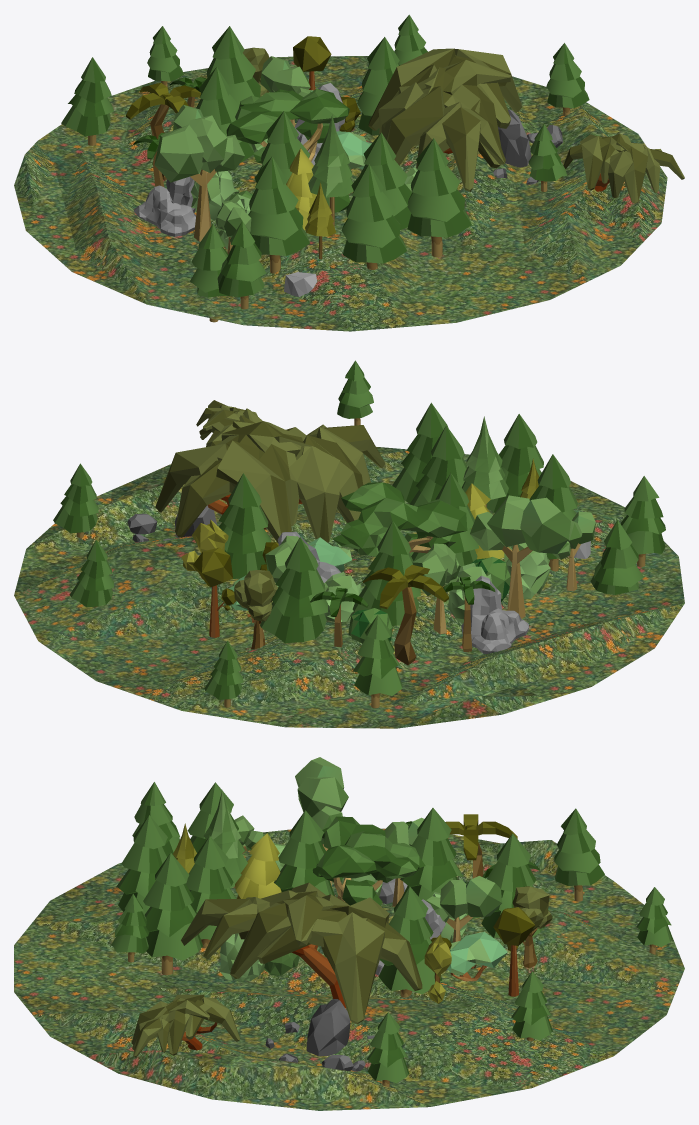
File: Greenery.glb
3 views of the same model, one above another, from view 1: azimuth 30°, elevation 25°; view 2: azimuth 150°, elevation 25°; view 3: azimuth 270°, elevation 25° (orthographic). The views are drawn at different scales.
Parts seen in each view (by area): view 1: Circle, tree_19.001, tree_24.003, tree_18.001, tree_19.002, tree_11.007, tree_11.008, tree_11.002, tree_11.011, rock_19.002, tree_11.013, tree_9.001 (+24 smaller); view 2: Circle, tree_19.001, tree_18.001, tree_24.003, tree_11.006, tree_11.010, rock_19.002, tree_21.001, tree_11.011, tree_11.005, tree_11.013, tree_11.014 (+27 smaller); view 3: Circle, tree_19.001, tree_18.001, tree_11.007, tree_19.002, tree_11.010, tree_11.005, rock_21.001, tree_11.011, tree_11.004, tree_11.008, tree_24.003 (+21 smaller).
Boxes of the visible parts, left/top/right/bottom form: Circle: left=14, top=56, right=667, bottom=331; tree_19.001: left=368, top=48, right=521, bottom=192; tree_24.003: left=154, top=118, right=244, bottom=241; tree_18.001: left=226, top=88, right=349, bottom=163; tree_19.002: left=563, top=133, right=684, bottom=203; tree_11.007: left=407, top=138, right=471, bottom=257; tree_11.008: left=341, top=164, right=406, bottom=269; tree_11.002: left=248, top=156, right=309, bottom=273; tree_11.011: left=61, top=57, right=113, bottom=145; rock_19.002: left=134, top=176, right=196, bottom=236; tree_11.013: left=217, top=221, right=266, bottom=309; tree_9.001: left=308, top=115, right=353, bottom=236; Circle: left=14, top=447, right=684, bottom=728; tree_19.001: left=155, top=421, right=385, bottom=542; tree_18.001: left=332, top=482, right=467, bottom=556; tree_24.003: left=470, top=495, right=570, bottom=618; tree_11.006: left=260, top=537, right=327, bottom=643; tree_11.010: left=219, top=473, right=271, bottom=578; rock_19.002: left=461, top=575, right=529, bottom=653; tree_21.001: left=363, top=565, right=448, bottom=665; tree_11.011: left=353, top=615, right=402, bottom=708; tree_11.005: left=352, top=521, right=420, bottom=625; tree_11.013: left=620, top=476, right=665, bottom=566; tree_11.014: left=590, top=520, right=643, bottom=594; Circle: left=14, top=828, right=684, bottom=1110; tree_19.001: left=181, top=882, right=422, bottom=1024; tree_18.001: left=312, top=816, right=425, bottom=905; tree_11.007: left=143, top=853, right=203, bottom=975; tree_19.002: left=131, top=994, right=239, bottom=1057; tree_11.010: left=378, top=886, right=441, bottom=997; tree_11.005: left=400, top=808, right=462, bottom=900; rock_21.001: left=265, top=999, right=374, bottom=1071; tree_11.011: left=554, top=808, right=604, bottom=901; tree_11.004: left=274, top=810, right=335, bottom=896; tree_11.008: left=116, top=815, right=168, bottom=914; tree_24.003: left=295, top=757, right=348, bottom=886.
Bounding box in the file's own units: 1.46 × 0.4189 × 1.45.
Materials: 2 (2 with a texture image).
